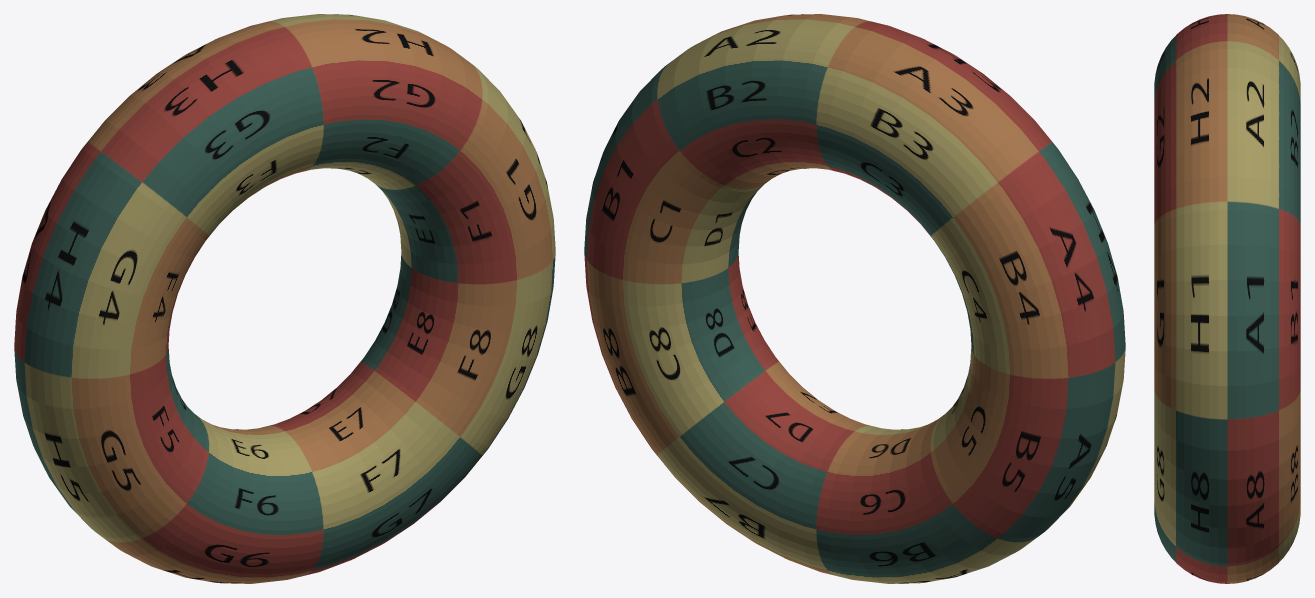
The model's file is texture_torus_R18_r21.glb.
3 renders of one model, left to right at view 1: azimuth 30°, elevation 25°; view 2: azimuth 150°, elevation 25°; view 3: azimuth 270°, elevation 25°, orthographic. The views are drawn at different scales.
Visible parts, largest first — view 1: world; view 2: world; view 3: world.
Boxes of the visible parts, x1,y1,x2,y2 form: world: (14, 14, 555, 583); world: (584, 14, 1125, 583); world: (1154, 14, 1300, 583).
Bounding box in the file's own units: 29.6 × 29.54 × 7.59.
1 material, 1 textured.
